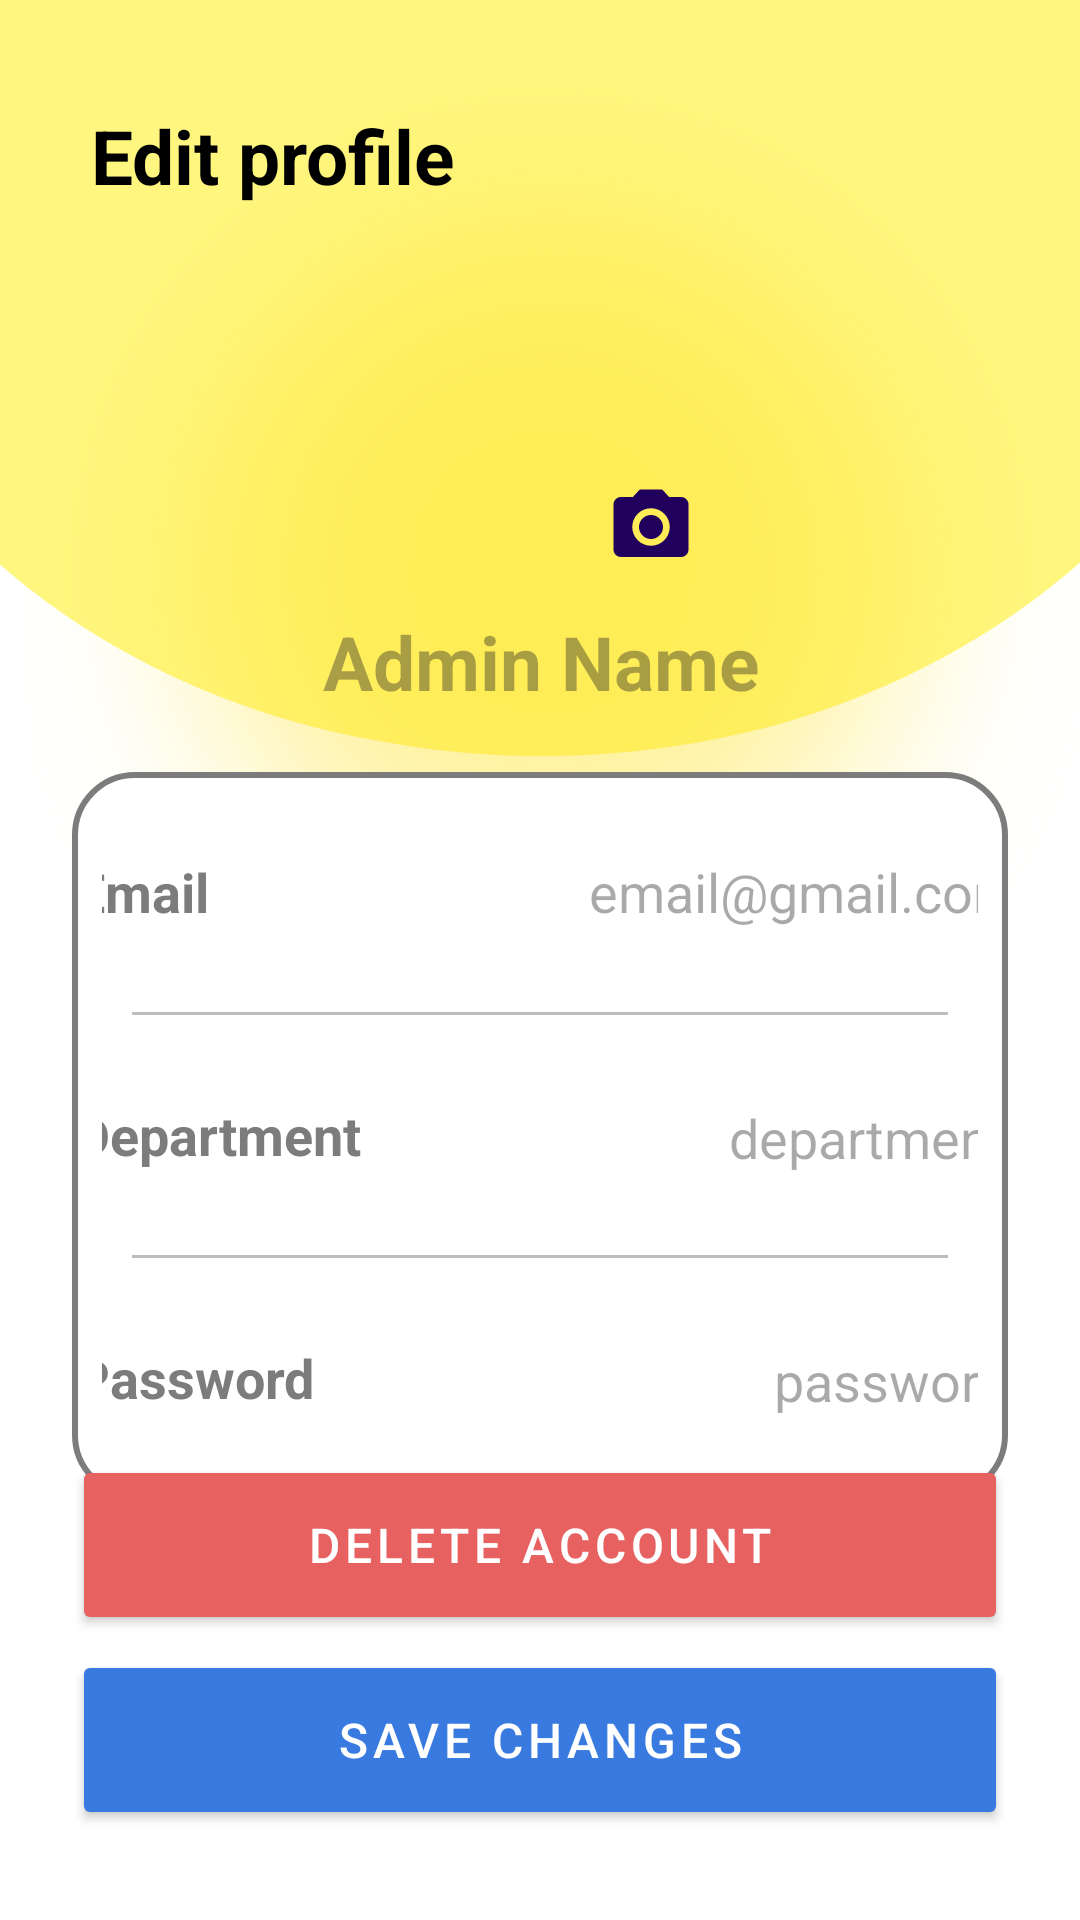

Where icons sit on this 1080x1920 app screen, as (x1, y1, x2, y2):
photo camera: (613, 489, 689, 557)
